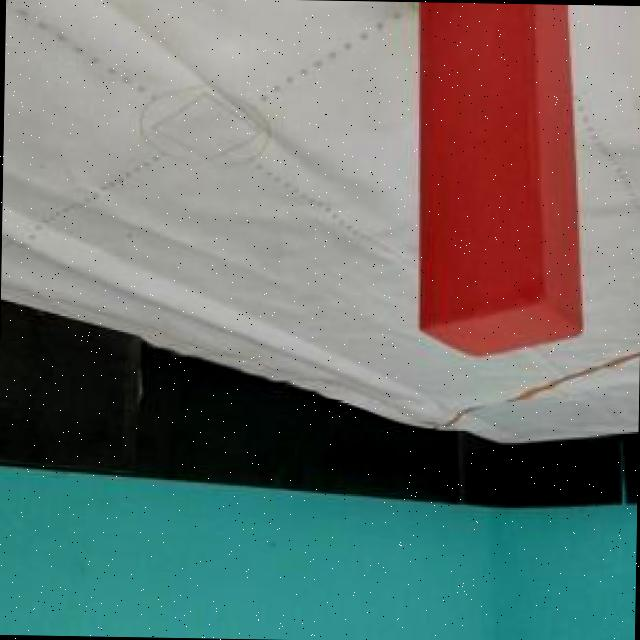redbox: (408, 1, 589, 362)
